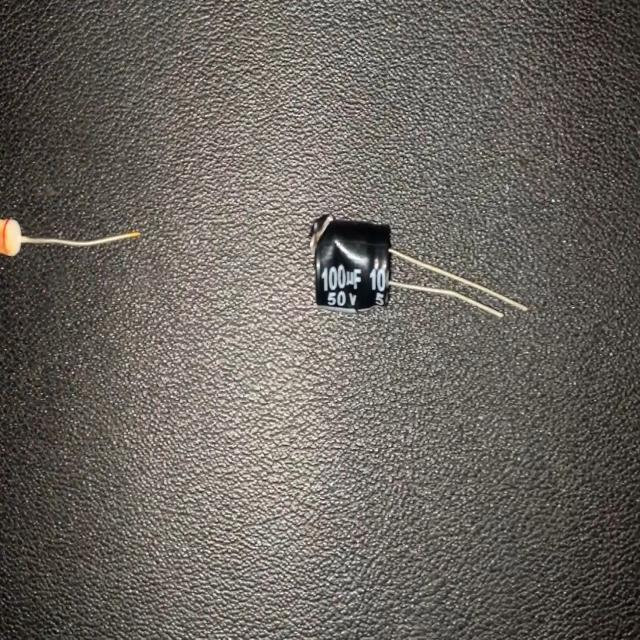burnt: (2, 214, 17, 252)
capacitor: (306, 212, 530, 321)
cracked: (326, 232, 371, 278), (310, 217, 334, 250)
resistor: (0, 202, 140, 259)
rust: (130, 227, 138, 243)
